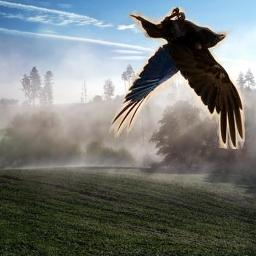Crow: (109, 7, 245, 149)
